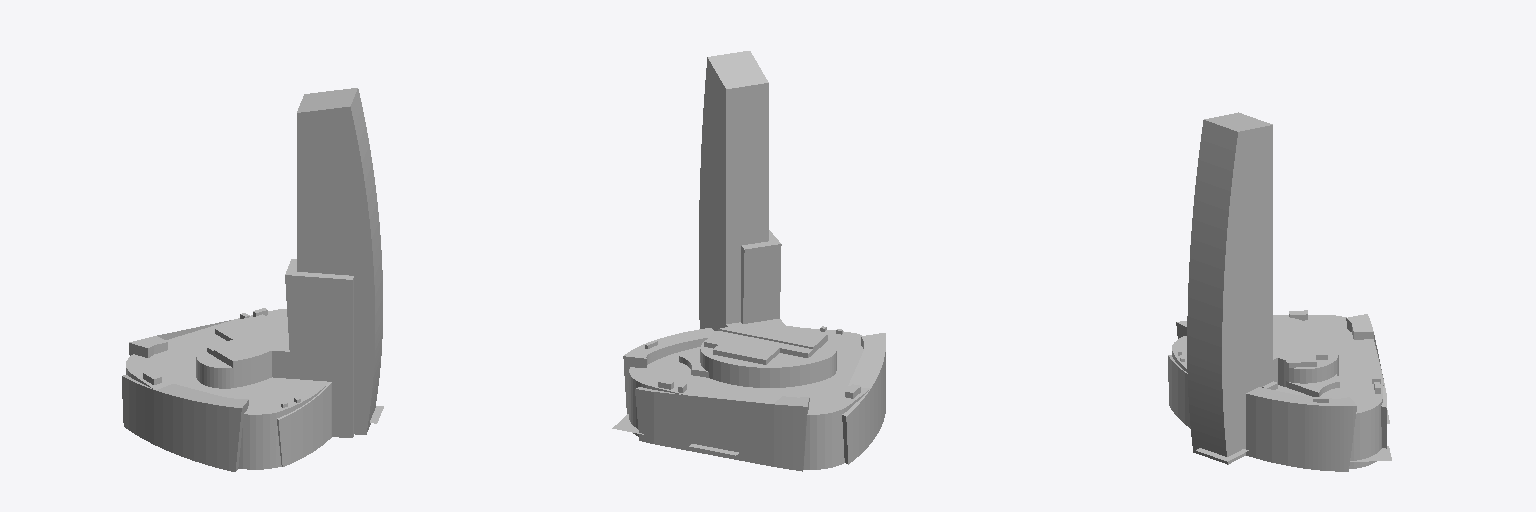
File: building1.obj
3 views of the same model, side by side, from view 1: azimuth 30°, elevation 25°; view 2: azimuth 150°, elevation 25°; view 3: azimuth 270°, elevation 25° (orthographic).
Visible parts, largest first — view 1: Layer0_001; view 2: Layer0_001; view 3: Layer0_001.
Part boxes in pixels (bbox=[...]): Layer0_001: bbox=[122, 88, 383, 471]; Layer0_001: bbox=[612, 51, 885, 471]; Layer0_001: bbox=[1168, 112, 1391, 471].
Bounding box in the file's own units: 6367 × 9370 × 5819.